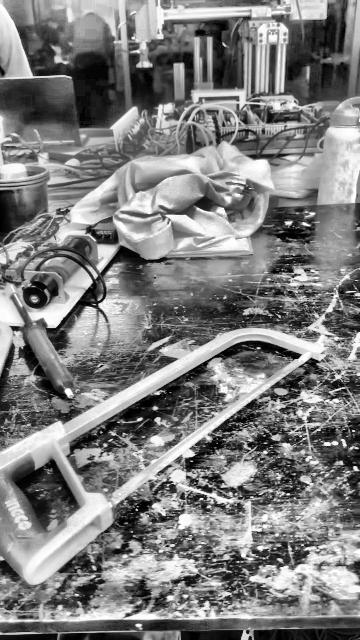pot: (0, 167, 51, 233)
